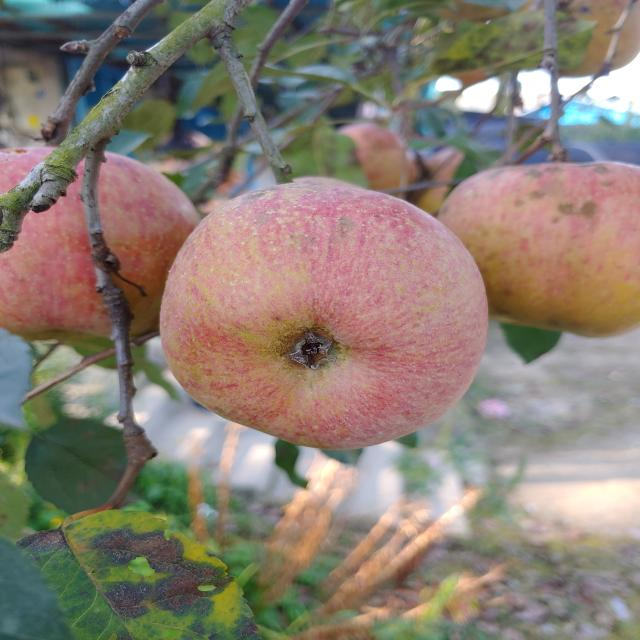fresh: (144, 168, 514, 464)
